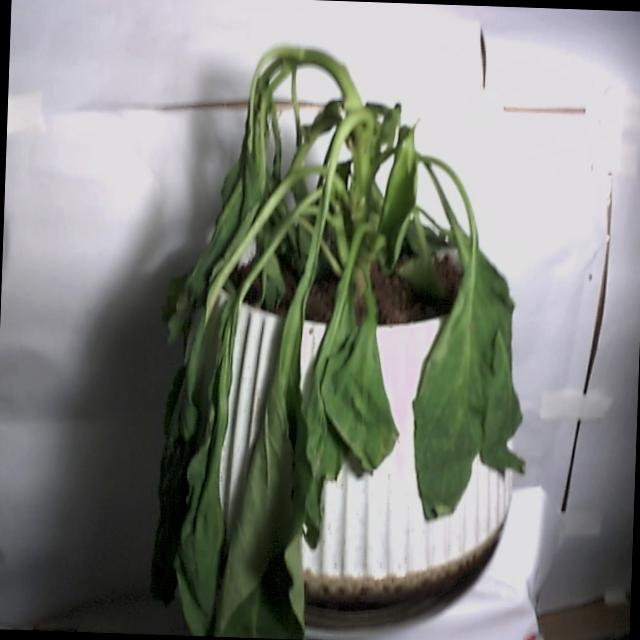Leaf: (214, 360, 316, 640), (148, 340, 230, 630), (408, 290, 502, 522), (302, 303, 404, 476)
